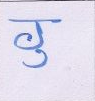u_matra: (22, 50, 51, 69)
